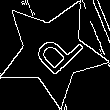P_SW: (22, 21, 83, 82)
